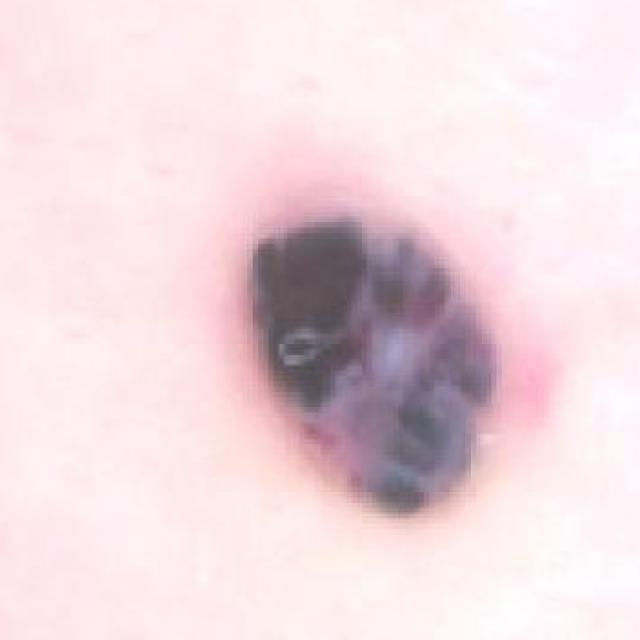VASC: (176, 105, 580, 619)
